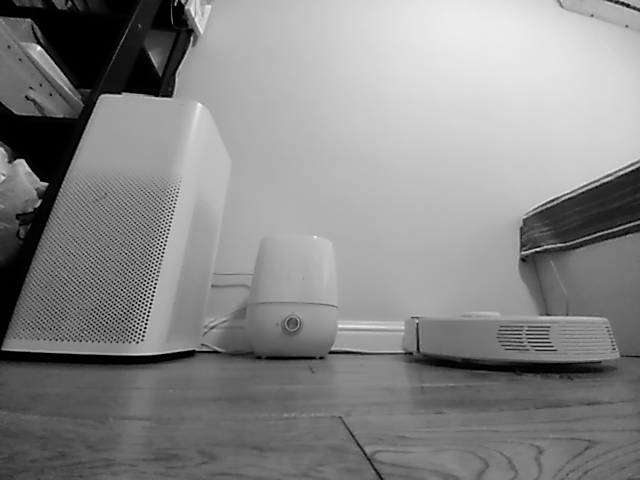wire: (199, 308, 247, 355)
